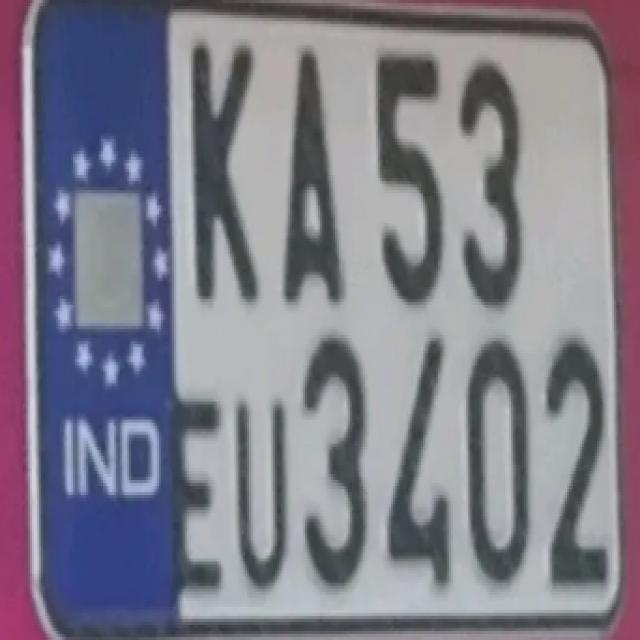0: (462, 328, 536, 592)
3: (456, 30, 534, 316), (297, 326, 372, 594)
4: (381, 330, 454, 596)
5: (366, 33, 452, 306)
A: (282, 28, 352, 308)
E: (166, 380, 228, 596)
K: (179, 23, 264, 310)
U: (232, 394, 292, 586)
